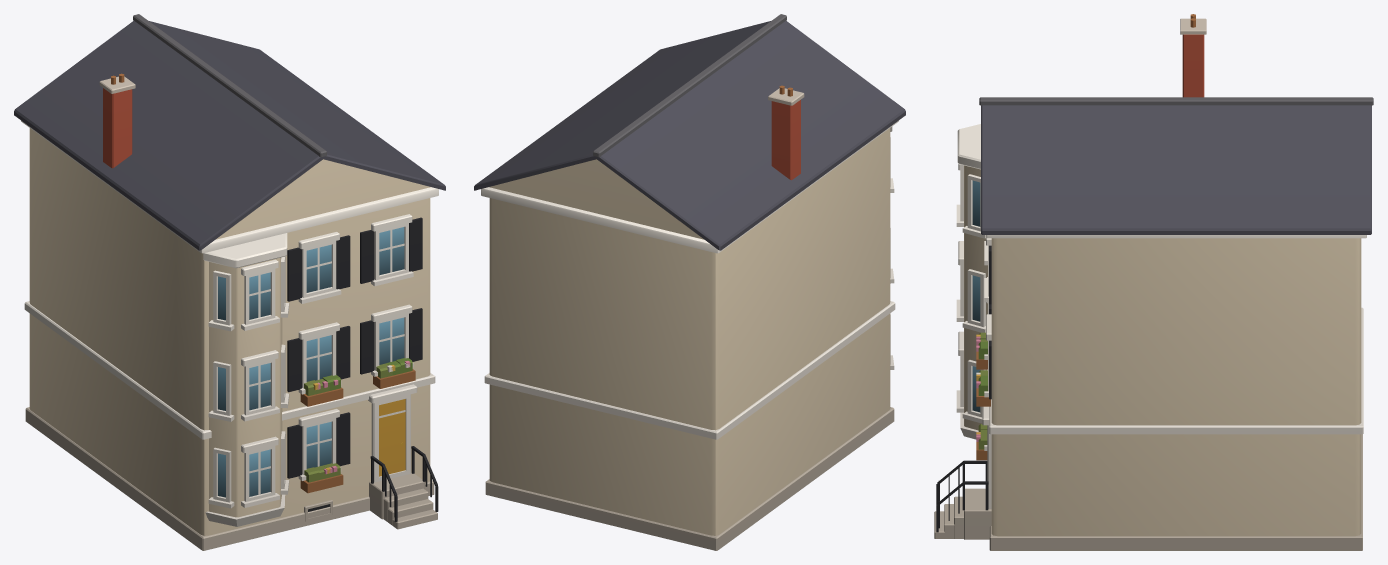
File: beacon_n4.glb
3 views of the same model, side by side, from view 1: azimuth 30°, elevation 25°; view 2: azimuth 150°, elevation 25°; view 3: azimuth 270°, elevation 25° (orthographic). The views are drawn at different scales.
Parts seen in each view (by area): view 1: beacon_n4; view 2: beacon_n4; view 3: beacon_n4.
Part boxes in pixels (left/top/right/bottom): beacon_n4: left=14, top=14, right=445, bottom=550; beacon_n4: left=474, top=14, right=905, bottom=550; beacon_n4: left=934, top=14, right=1373, bottom=550.
Bounding box in the file's own units: 9.7 × 15.07 × 14.26.
1 material, 1 textured.
